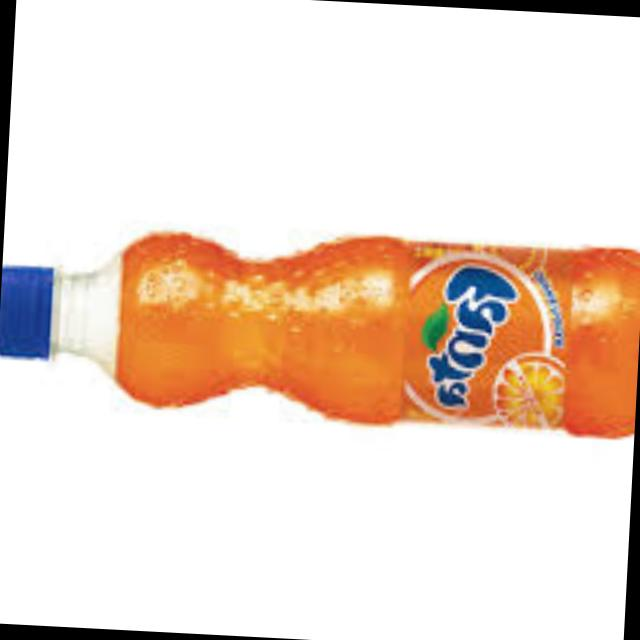plastic: (0, 229, 640, 432)
